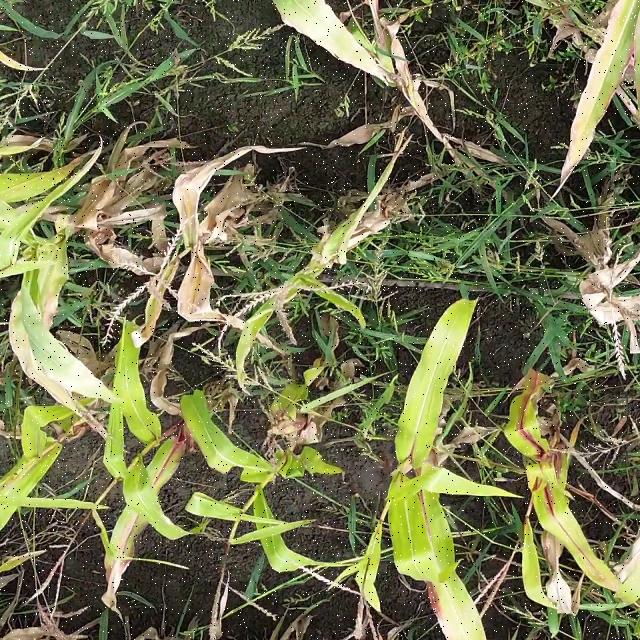northern-leaf-blight: (507, 396, 619, 580), (542, 7, 630, 177), (9, 284, 119, 416), (92, 431, 180, 576), (278, 7, 414, 93)
